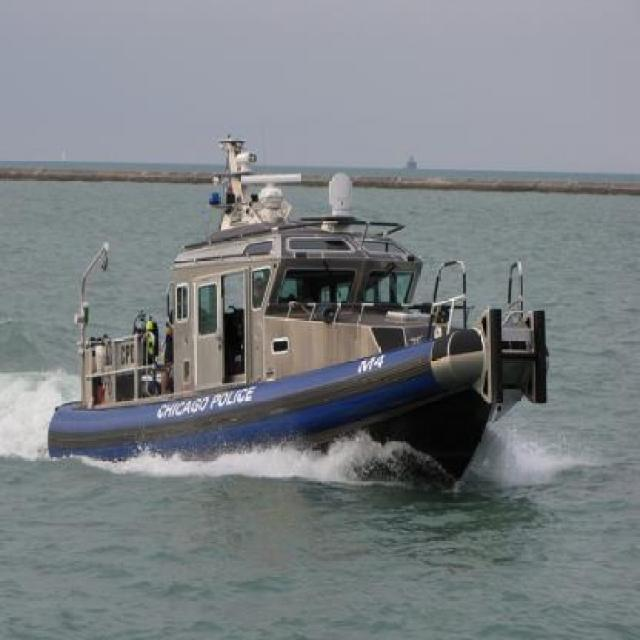ship: (44, 134, 548, 501)
